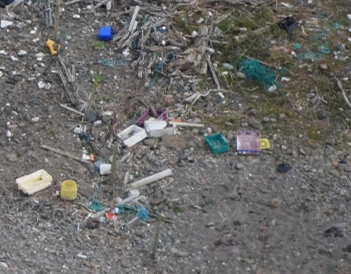scattered_barrel: (7, 151, 87, 208), (40, 17, 115, 64)
straight_bar: (35, 135, 92, 169), (128, 161, 175, 193), (163, 108, 209, 137)
together_barrel: (88, 102, 277, 233), (116, 1, 351, 92)
